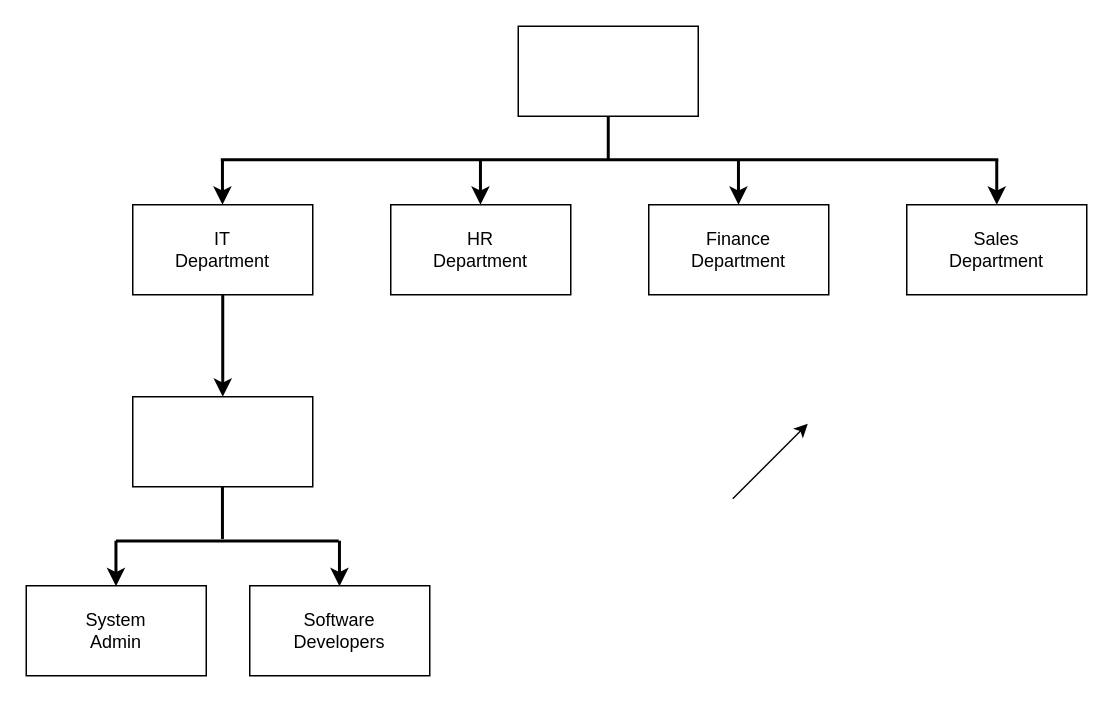
Some shapes in this 1113 by 702 pixel diagram are drawn without their labels. The centre of each missing label's shape, as x and y in pixels:
General Manager: pixel 607 70
IT Manager: pixel 222 441
